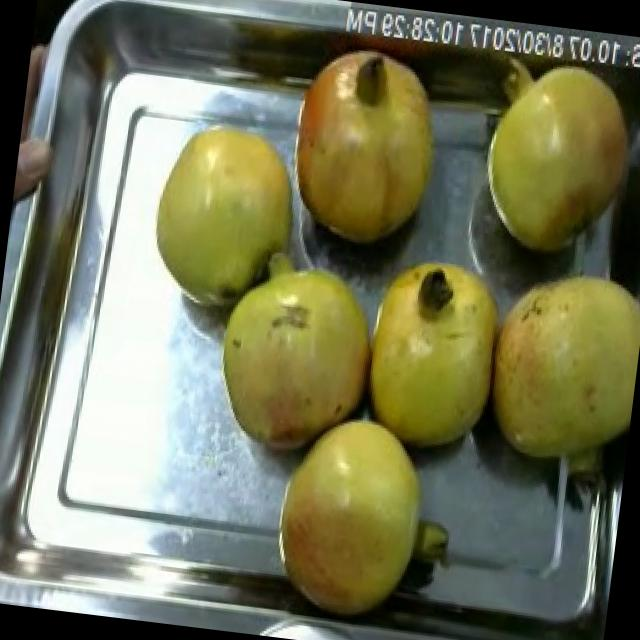fruit: (245, 384, 476, 640), (338, 223, 531, 474), (197, 238, 400, 474), (455, 32, 640, 278), (269, 32, 462, 262), (138, 106, 314, 330)
